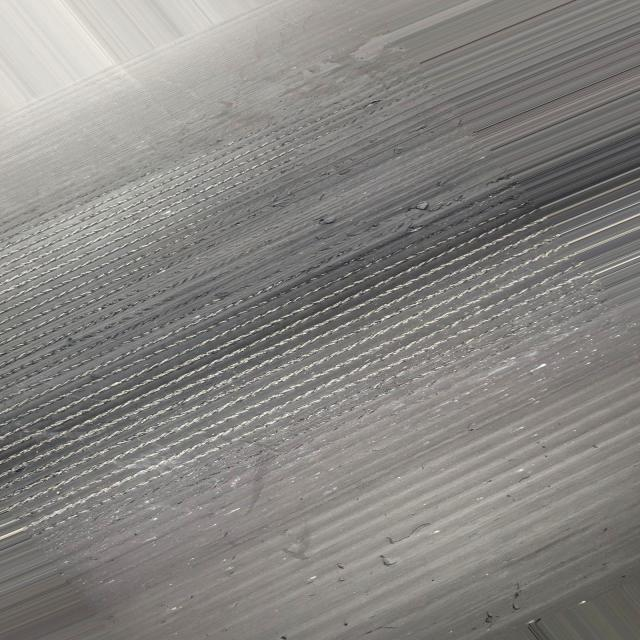Wear: (9, 1, 631, 543)
